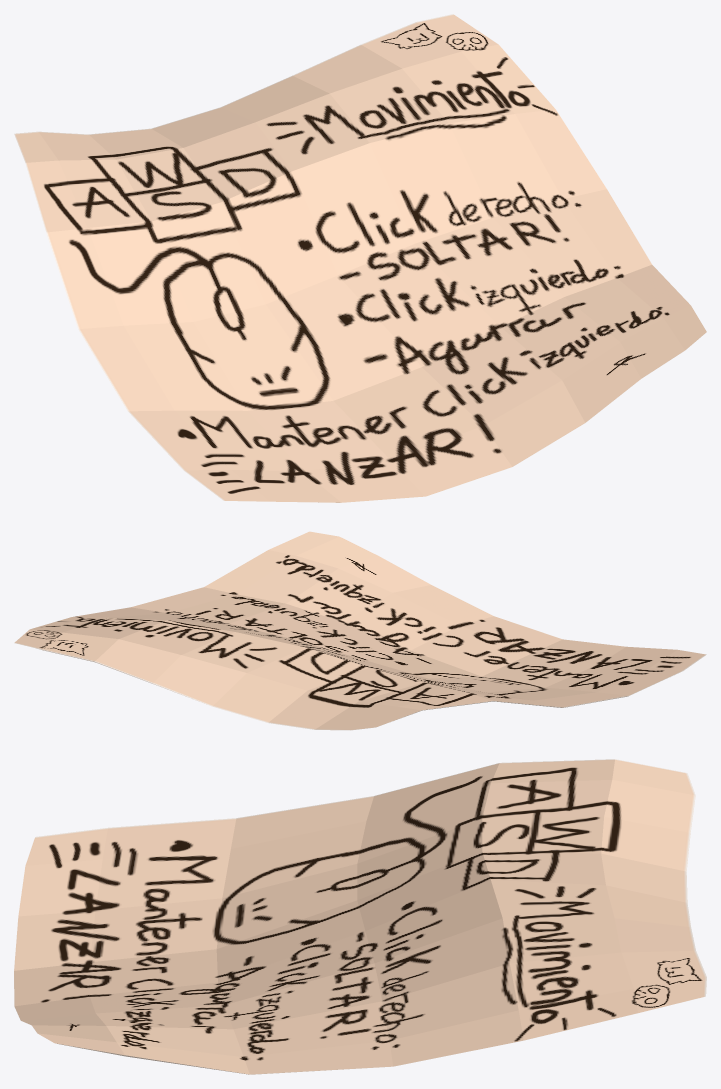
Rendered from papelinstrucciones..fbx.
3 renders of one model, top to bottom at view 1: azimuth 30°, elevation 25°; view 2: azimuth 150°, elevation 25°; view 3: azimuth 270°, elevation 25°, orthographic. The views are drawn at different scales.
Visible parts, largest first — view 1: Plane.001; view 2: Plane.001; view 3: Plane.001.
Part boxes in pixels (x1=…): Plane.001: x1=14, y1=14, x2=706, y2=502; Plane.001: x1=14, y1=531, x2=706, y2=730; Plane.001: x1=14, y1=759, x2=706, y2=1074.
Size of the model in its own units: 136 by 34.45 by 137.
